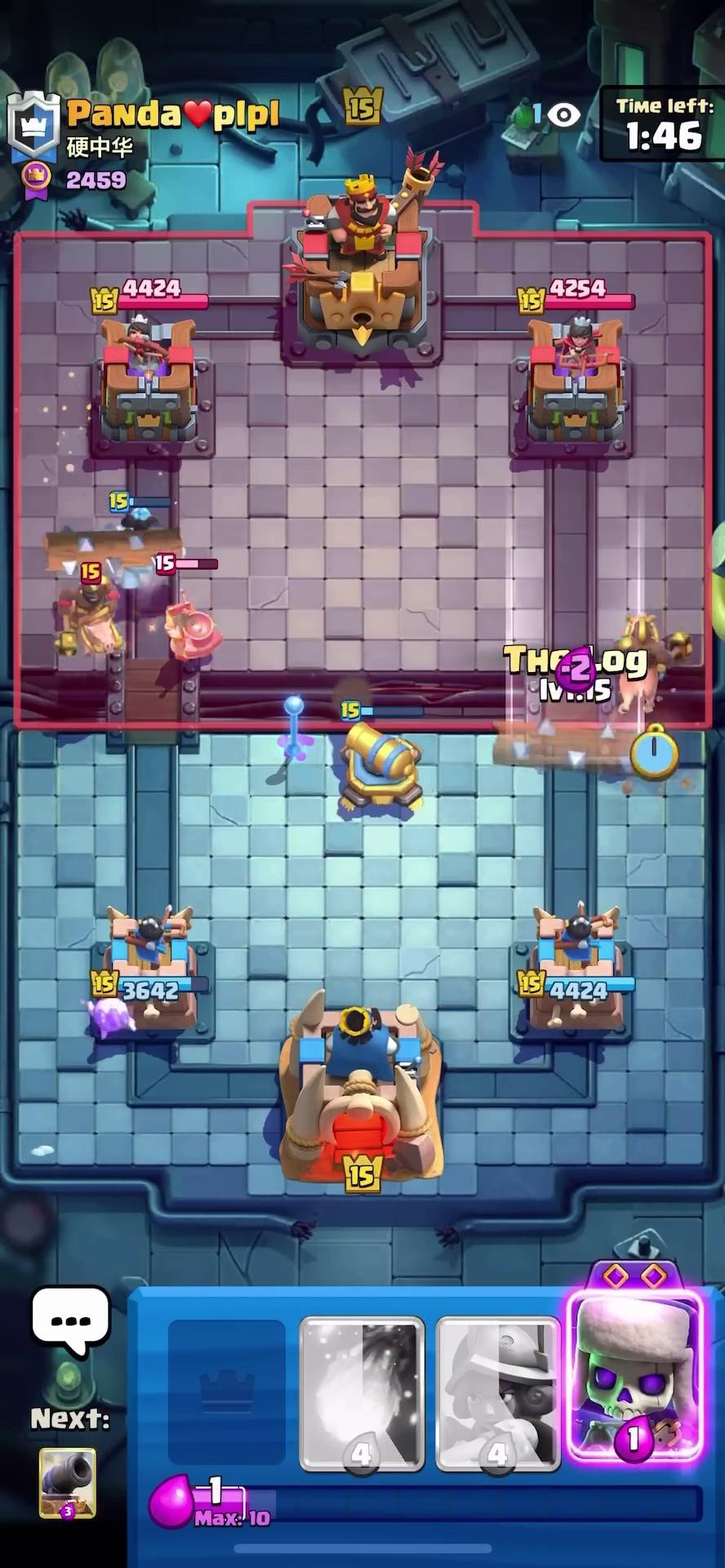cannon: (325, 704, 439, 821)
evo_ice_spirit: (80, 992, 145, 1047)
hog_rider: (588, 600, 700, 708)
ice_golem: (98, 504, 184, 596)
log: (33, 535, 204, 572)
